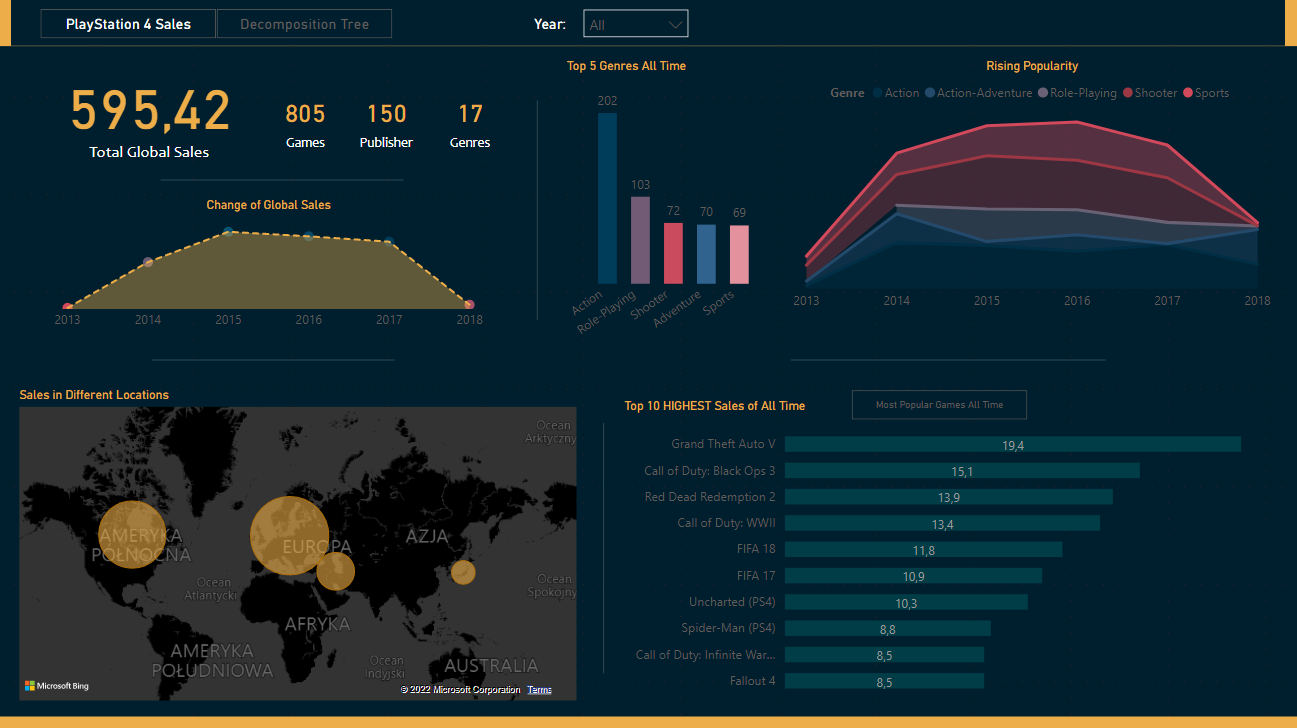

Layout of this report page (visuals, bound fields, positions):
{"tool":"powerbi","page":{"name":"PlayStation 4 Sales","canvas":[1280,720],"ordinal":0},"visuals":[{"type":"basicShape","box":[487.3,90.2,87.3,235.6],"z":0},{"type":"basicShape","box":[0,0,1280,46.7],"z":1000},{"type":"basicShape","box":[0,706.5,1280,13.5],"z":2000},{"type":"actionButton","box":[215.3,10.2,173.1,29.1],"z":3000},{"type":"map","title":"Sales in Different Locations","fields":{"Category":["Total Sales.Location"],"Size":["Sum(Total Sales.Sales)"]},"box":[16.5,383.2,559,313.1],"z":4000},{"type":"actionButton","box":[42.2,10.2,173.1,29.1],"z":5000},{"type":"basicShape","box":[552.7,407.3,87.3,266.2],"z":6000},{"type":"card","fields":{"Values":["Sum(PS4_GamesSales.Global)"]},"box":[32,46.5,234.2,130.9],"z":7000},{"type":"actionButton","box":[512,4.4,62.5,39.3],"z":8000},{"type":"basicShape","box":[770.9,309.8,330.2,90.2],"z":9000},{"type":"pythonVisual","fields":{"Values":["PS4_GamesSales.Year","Sum(PS4_GamesSales.Global)"]},"box":[17.1,210.7,468.4,136.7],"z":10000},{"type":"clusteredColumnChart","title":"Top 5 Genres All Time","fields":{"Category":["PS4_GamesSales.Genre"],"Y":["CountNonNull(PS4_GamesSales.Game)"]},"box":[555.6,59.6,203.6,295.3],"z":12000},{"type":"card","fields":{"Values":["Count(PS4_GamesSales.Publisher)"]},"box":[340.4,82.9,82.9,75.6],"z":16000},{"type":"card","fields":{"Values":["Count(PS4_GamesSales.Game)"]},"box":[266.2,82.9,74.2,75.6],"z":18000},{"type":"card","fields":{"Values":["Count(PS4_GamesSales.Genre)"]},"box":[423.3,82.9,82.9,75.6],"z":19000},{"type":"stackedAreaChart","title":"Rising Popularity","fields":{"Category":["PS4_GamesSales.Year"],"Y":["Sum(PS4_GamesSales.Global)"],"Series":["PS4_GamesSales.Genre"]},"box":[755.3,59.3,525.2,256.9],"z":22000},{"type":"barChart","title":"Top 5 MOST POPULAR Games All Time","fields":{"Category":["Highest Sold Game.TopGame"],"Y":["Sum(PS4_GamesSales.Global)"],"Series":["Highest Sold Game.Year"]},"box":[611.6,394.7,652.4,295.1],"z":24000},{"type":"areaChart","title":"Change  of Global Sales","fields":{"Category":["PS4_GamesSales.Year"],"Y":["Sum(PS4_GamesSales.Global)"]},"box":[32.5,196.2,468.7,139.8],"z":26000},{"type":"actionButton","box":[840.3,385.5,173.1,29.1],"z":28000},{"type":"basicShape","box":[149.8,132.4,258.9,90.2],"z":29000},{"type":"basicShape","box":[141.1,309.8,258.9,90.2],"z":30000},{"type":"slicer","fields":{"Values":["PS4_GamesSales.Year"]},"box":[566.4,0,123.6,48],"z":31000}]}

Visuals, with their boxes in screenshot pixels (x1, y1, x2, y2), scaled from the page's 1280x720 canvas onto the 1297x728 screenshot:
basicShape: pyautogui.locateOnScreen(494, 91, 582, 329)
basicShape: pyautogui.locateOnScreen(0, 0, 1296, 47)
basicShape: pyautogui.locateOnScreen(0, 714, 1296, 727)
actionButton: pyautogui.locateOnScreen(218, 10, 394, 40)
"Sales in Different Locations" map: pyautogui.locateOnScreen(17, 387, 583, 704)
actionButton: pyautogui.locateOnScreen(43, 10, 218, 40)
basicShape: pyautogui.locateOnScreen(560, 412, 648, 681)
card - Sum(PS4_GamesSales.Global): pyautogui.locateOnScreen(32, 47, 270, 179)
actionButton: pyautogui.locateOnScreen(519, 4, 582, 44)
basicShape: pyautogui.locateOnScreen(781, 313, 1116, 404)
pythonVisual - PS4_GamesSales.Year x Sum(PS4_GamesSales.Global): pyautogui.locateOnScreen(17, 213, 492, 351)
"Top 5 Genres All Time" clusteredColumnChart: pyautogui.locateOnScreen(563, 60, 769, 359)
card - Count(PS4_GamesSales.Publisher): pyautogui.locateOnScreen(345, 84, 429, 160)
card - Count(PS4_GamesSales.Game): pyautogui.locateOnScreen(270, 84, 345, 160)
card - Count(PS4_GamesSales.Genre): pyautogui.locateOnScreen(429, 84, 513, 160)
"Rising Popularity" stackedAreaChart: pyautogui.locateOnScreen(765, 60, 1296, 320)
"Top 5 MOST POPULAR Games All Time" barChart: pyautogui.locateOnScreen(620, 399, 1281, 697)
"Change  of Global Sales" areaChart: pyautogui.locateOnScreen(33, 198, 508, 340)
actionButton: pyautogui.locateOnScreen(851, 390, 1027, 419)
basicShape: pyautogui.locateOnScreen(152, 134, 414, 225)
basicShape: pyautogui.locateOnScreen(143, 313, 405, 404)
slicer - PS4_GamesSales.Year: pyautogui.locateOnScreen(574, 0, 699, 49)
